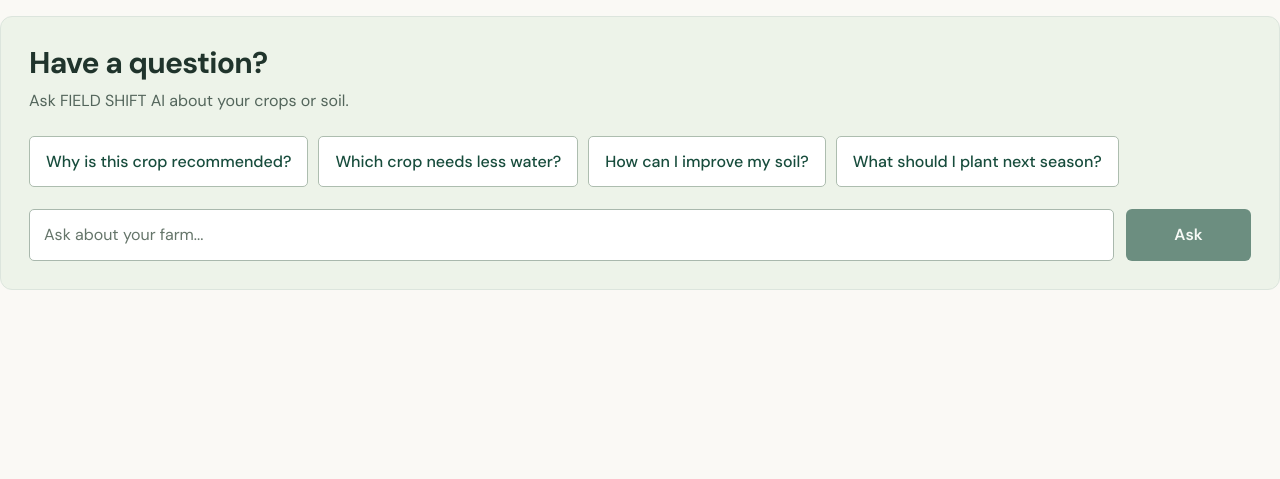
Test: answers suggestions instantly from a complete analysis without a request or loading dots
Click the button "Which crop needs less water?" at (448, 162), box top-left (318, 136), bottom-right (578, 187)
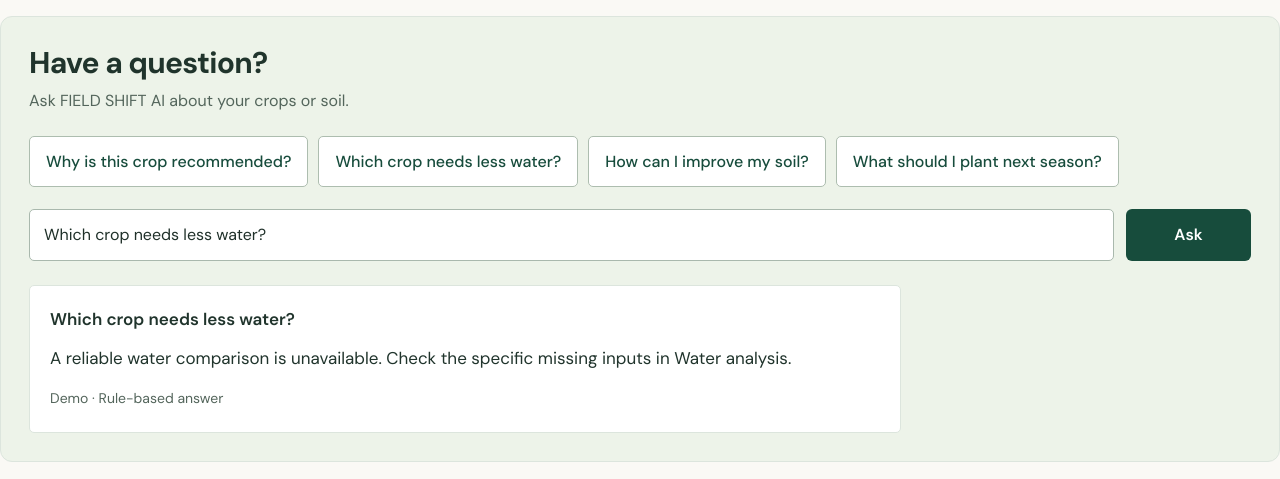
Now the text "A reliable water comparison" is shown, box top-left (50, 347), bottom-right (791, 369)
